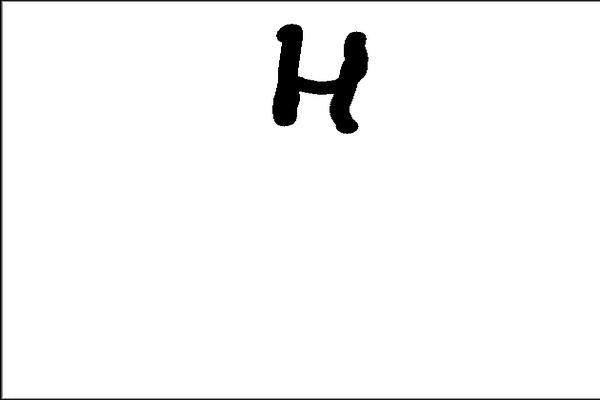H: (266, 17, 371, 135)
